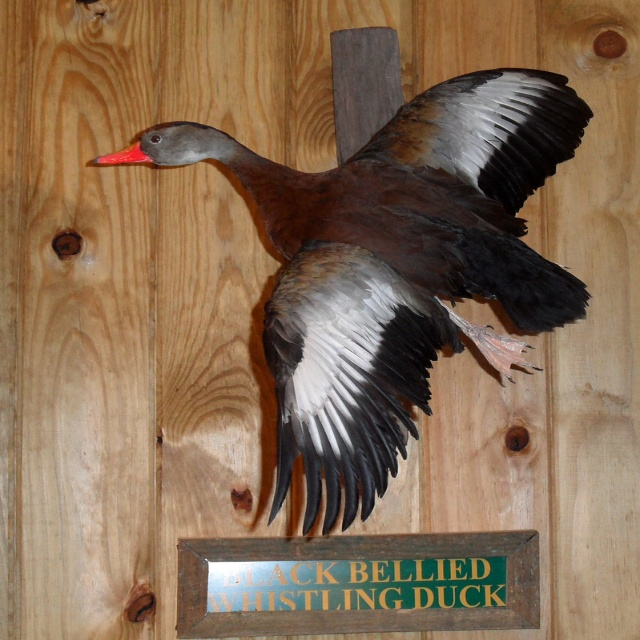Goose: (86, 65, 594, 545)
